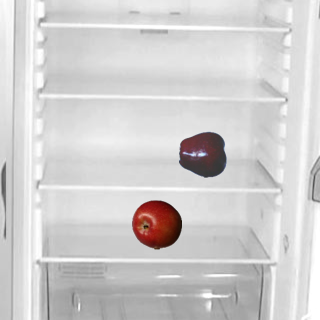Apple Braeburn: (131, 199, 181, 249)
Apple Red Delicious: (178, 129, 228, 179)
